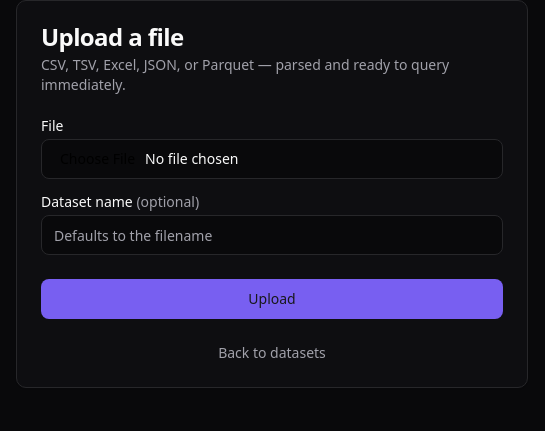
UploadDatasetPage › requires a file before submitting
Click the button "Upload" at coordinates (272, 299), box [41,279,503,319]
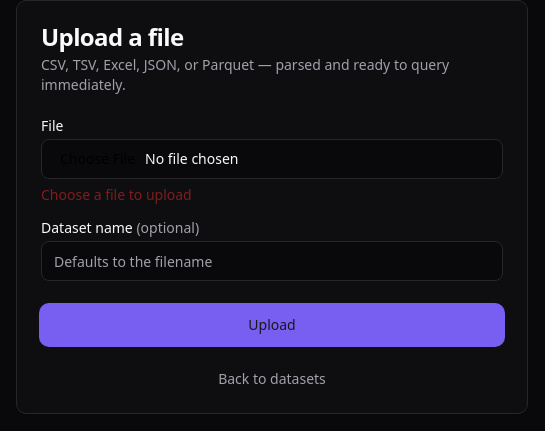
Expected: the text "Choose a file to upload" is shown, [41,185,192,204]
